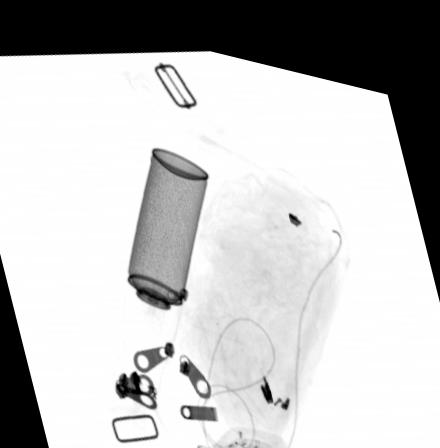Sprayer: (118, 138, 210, 336)
